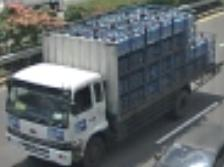truck: (1, 60, 115, 167)
